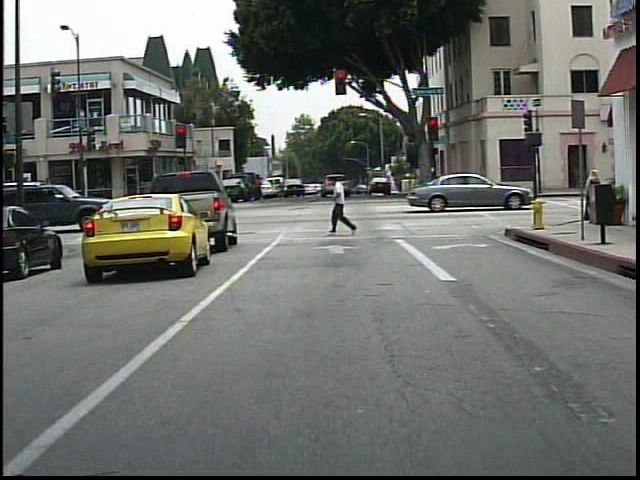person: (326, 172, 358, 237), (579, 166, 606, 222), (248, 169, 273, 209)
